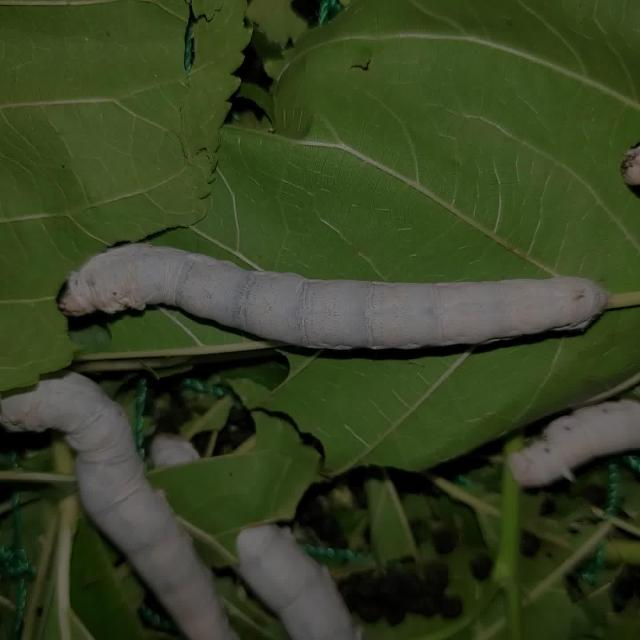Healthy: (58, 224, 616, 364)
